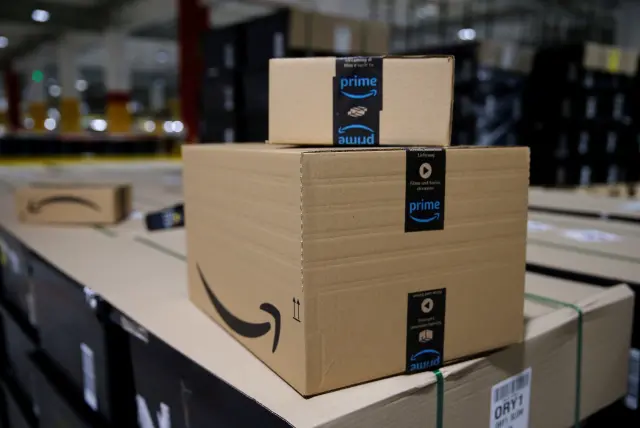package: (175, 138, 528, 406), (266, 52, 455, 150), (13, 177, 134, 229)
